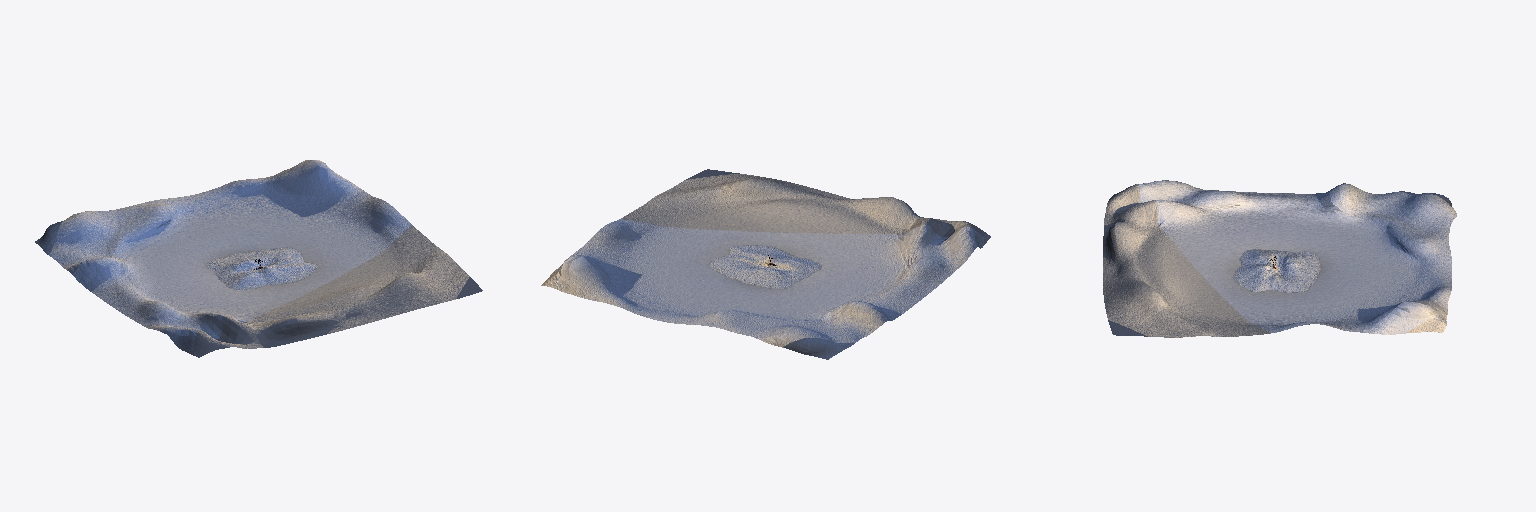
3 views of the same model, side by side, from view 1: azimuth 30°, elevation 25°; view 2: azimuth 150°, elevation 25°; view 3: azimuth 270°, elevation 25° (orthographic).
Parts seen in each view (by area): view 1: mountain, nearGround; view 2: mountain, nearGround; view 3: mountain, nearGround.
Boxes of the visible parts, <box> form: mountain: <box>35,160,482,357</box>; nearGround: <box>207,248,317,289</box>; mountain: <box>541,169,990,359</box>; nearGround: <box>708,245,820,288</box>; mountain: <box>1103,180,1456,337</box>; nearGround: <box>1234,249,1320,292</box>.
Size of the model in its own units: 8398 by 801 by 8440.
5 materials, 5 textured.